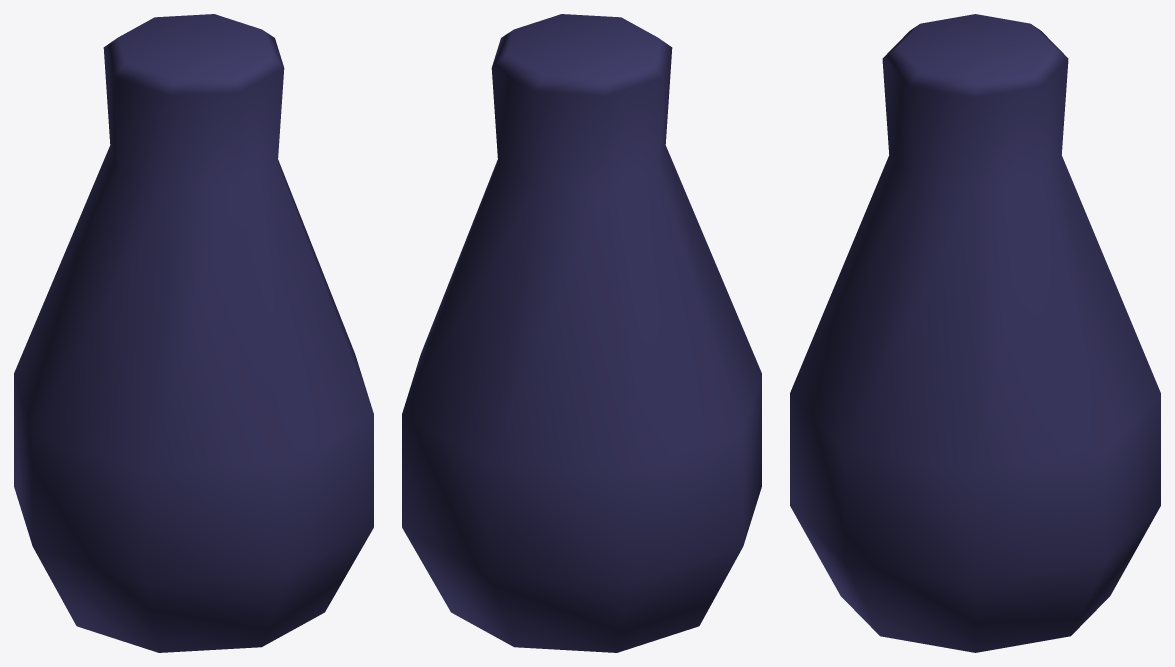
File: Potion_04.fbx
3 views of the same model, side by side, from view 1: azimuth 30°, elevation 25°; view 2: azimuth 150°, elevation 25°; view 3: azimuth 270°, elevation 25° (orthographic).
Visible parts, largest first — view 1: Potion_04; view 2: Potion_04; view 3: Potion_04.
Boxes of the visible parts, x1,y1,x2,y2 form: Potion_04: (14, 14, 373, 652); Potion_04: (402, 14, 761, 652); Potion_04: (790, 14, 1160, 652).
Bounding box in the file's own units: 10.64 × 17.38 × 10.64.
